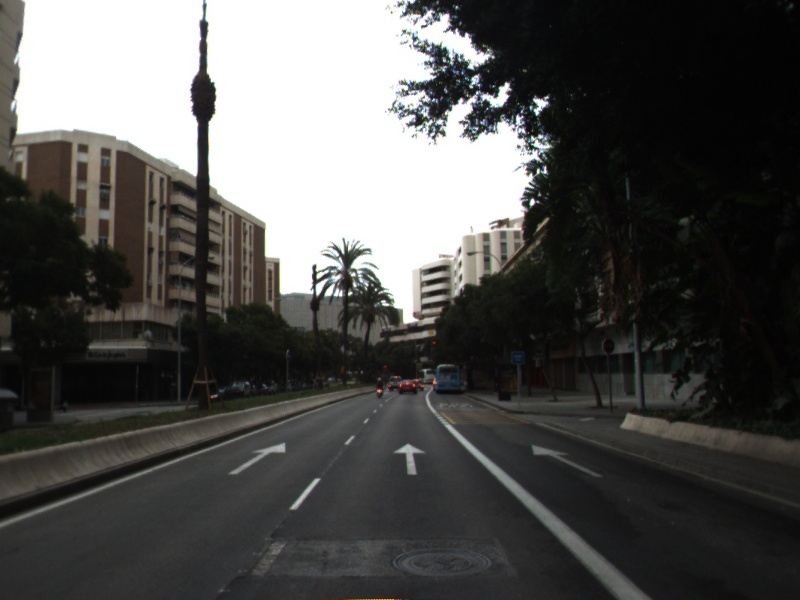STRAIGHT: (529, 442, 606, 480), (226, 441, 288, 477), (391, 441, 429, 477)
